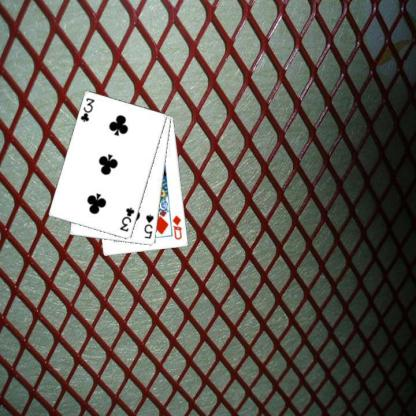3C: (117, 205, 136, 233), (78, 95, 96, 124)
5S: (141, 212, 155, 240)
QD: (170, 213, 183, 241)
